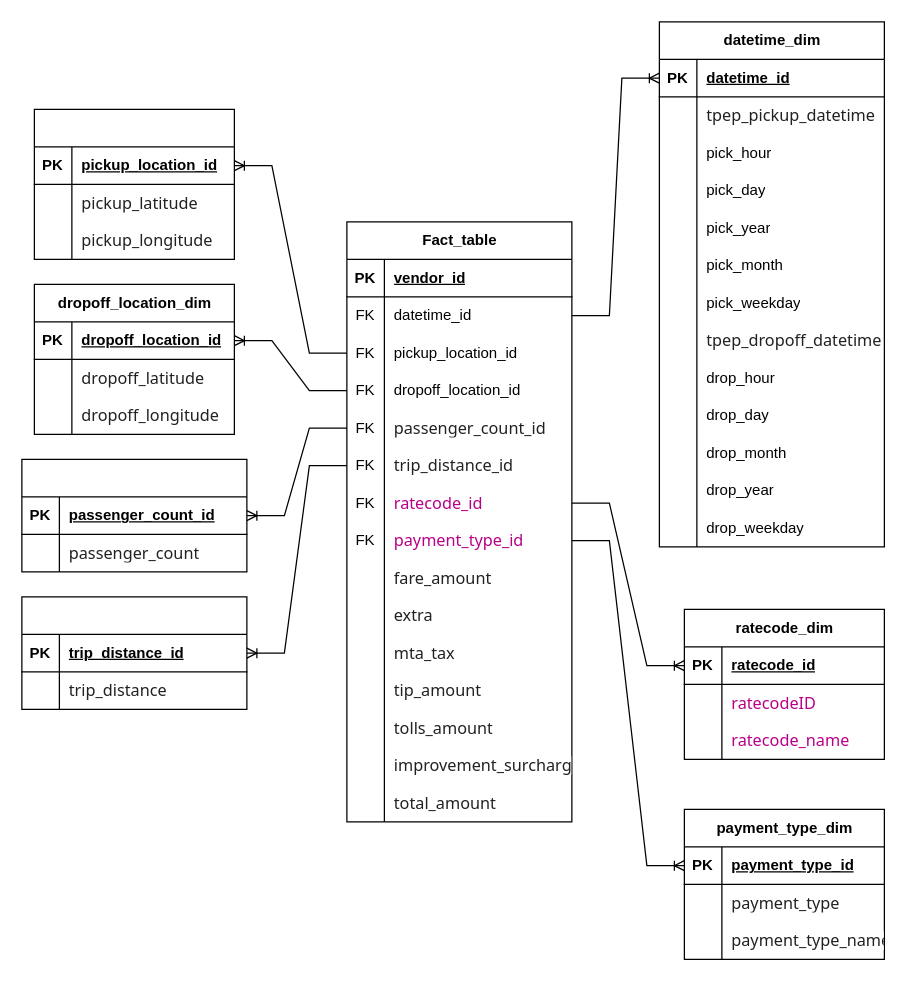
This 911x981 diagram has some shape labels left out. The shapes that lost their labels are listed below. From the top down, each one's box as (x1, y1, x2, y2) in pixels, then its label:
(33, 108, 234, 259): pickup_location_dim
(21, 458, 247, 572): passenger_count_dim
(21, 596, 247, 709): trip_distance_dim
